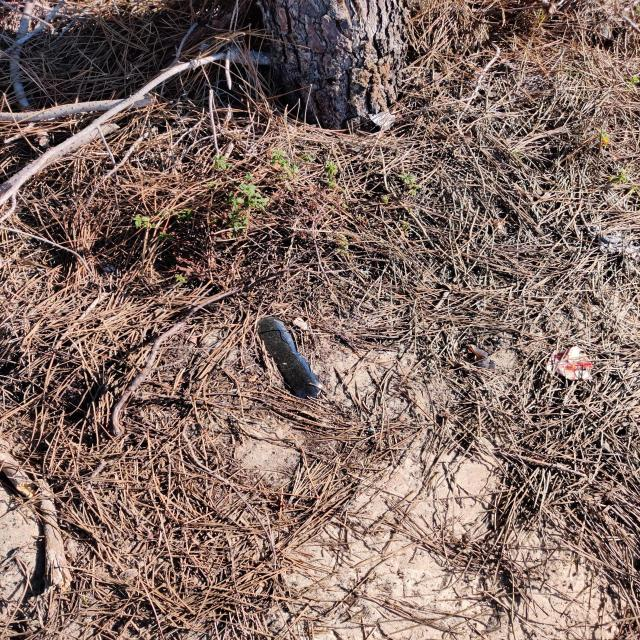litter: (253, 314, 328, 399)
